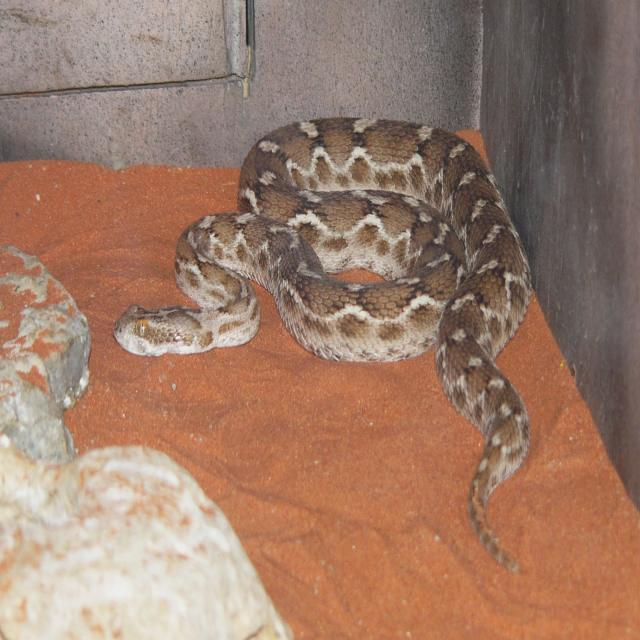Snake: (113, 106, 535, 582)
